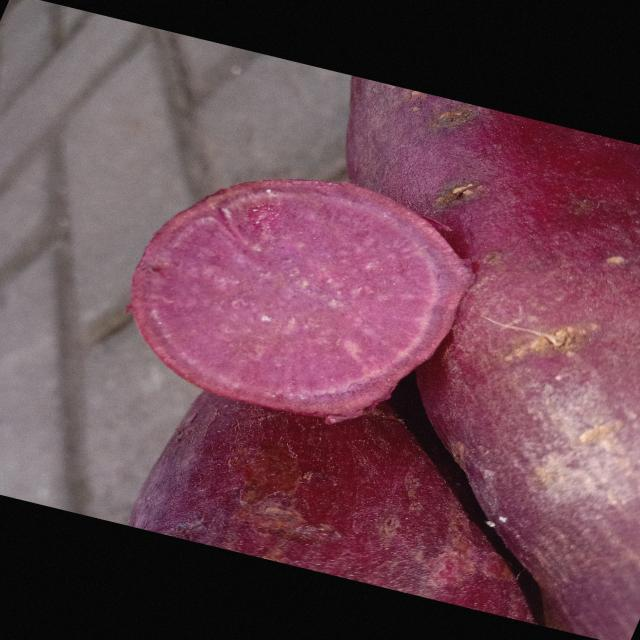Healthy Sweet Potato: (130, 180, 472, 422)
